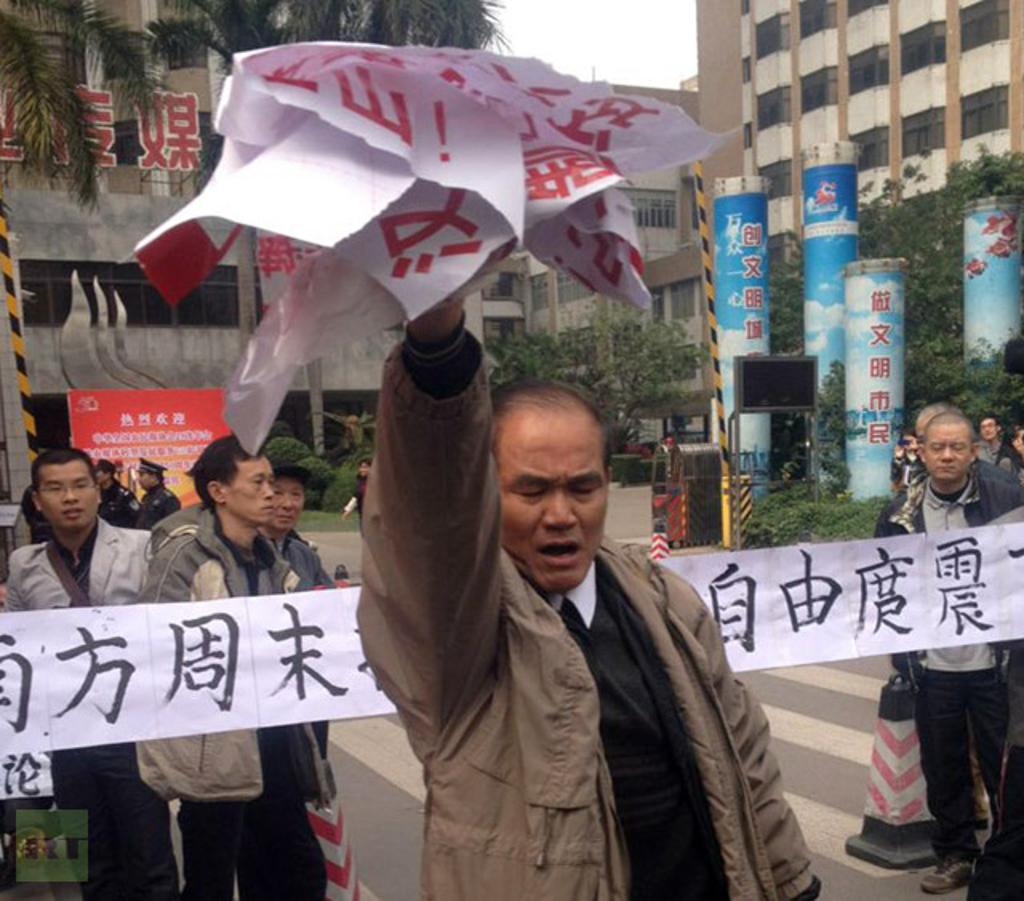face: (495, 457, 608, 590), (43, 475, 98, 529), (226, 467, 274, 525), (926, 432, 971, 479), (267, 478, 304, 531), (918, 427, 950, 472), (981, 421, 996, 440), (903, 437, 915, 452), (139, 473, 150, 489), (96, 470, 107, 484), (360, 466, 369, 477)
